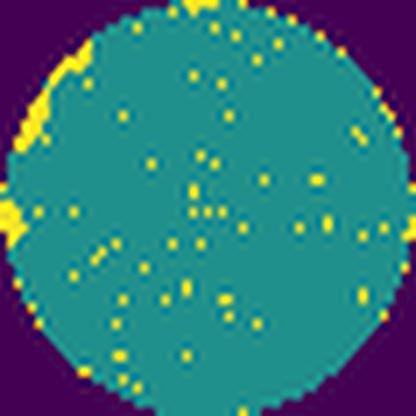Edge-Loc: (5, 34, 100, 156), (0, 194, 36, 250), (174, 0, 227, 14)
